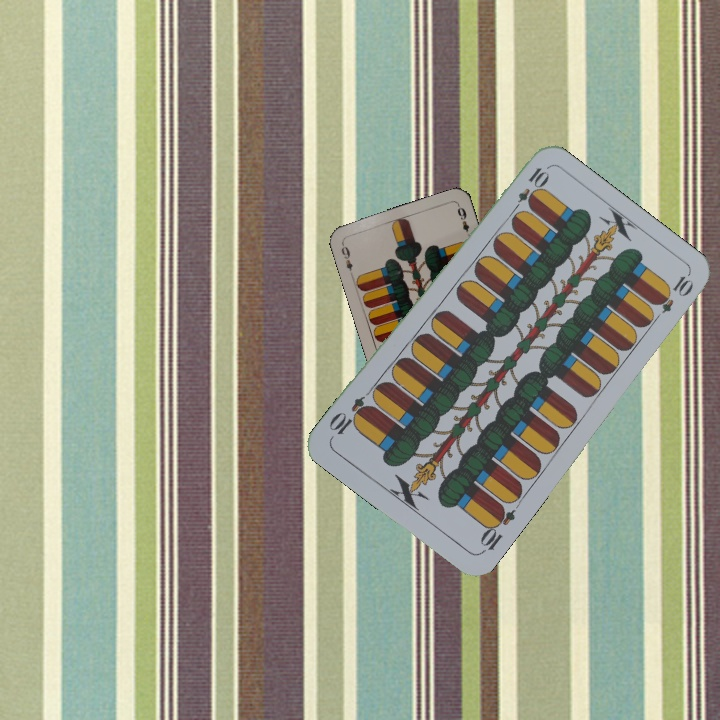E10: (475, 501, 518, 557), (507, 163, 550, 217)
E9: (337, 239, 356, 279)
